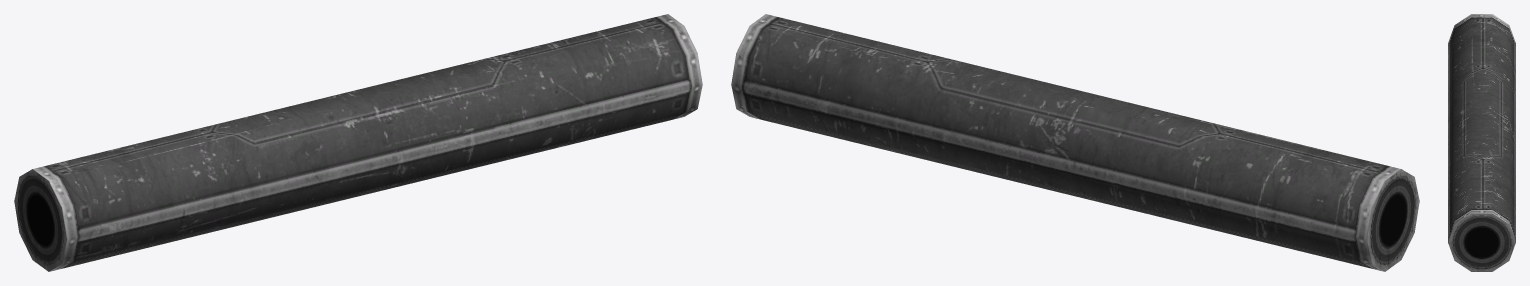
The model's file is lab_straight.dae.
3 views of the same model, side by side, from view 1: azimuth 30°, elevation 25°; view 2: azimuth 150°, elevation 25°; view 3: azimuth 270°, elevation 25° (orthographic). The views are drawn at different scales.
Parts seen in each view (by area): view 1: straight; view 2: straight; view 3: straight.
Boxes of the visible parts, x1,y1,x2,y2 form: straight: (14, 14, 702, 271); straight: (731, 14, 1419, 271); straight: (1448, 14, 1515, 271).
Size of the model in its own units: 1 by 0.1367 by 0.1437.
